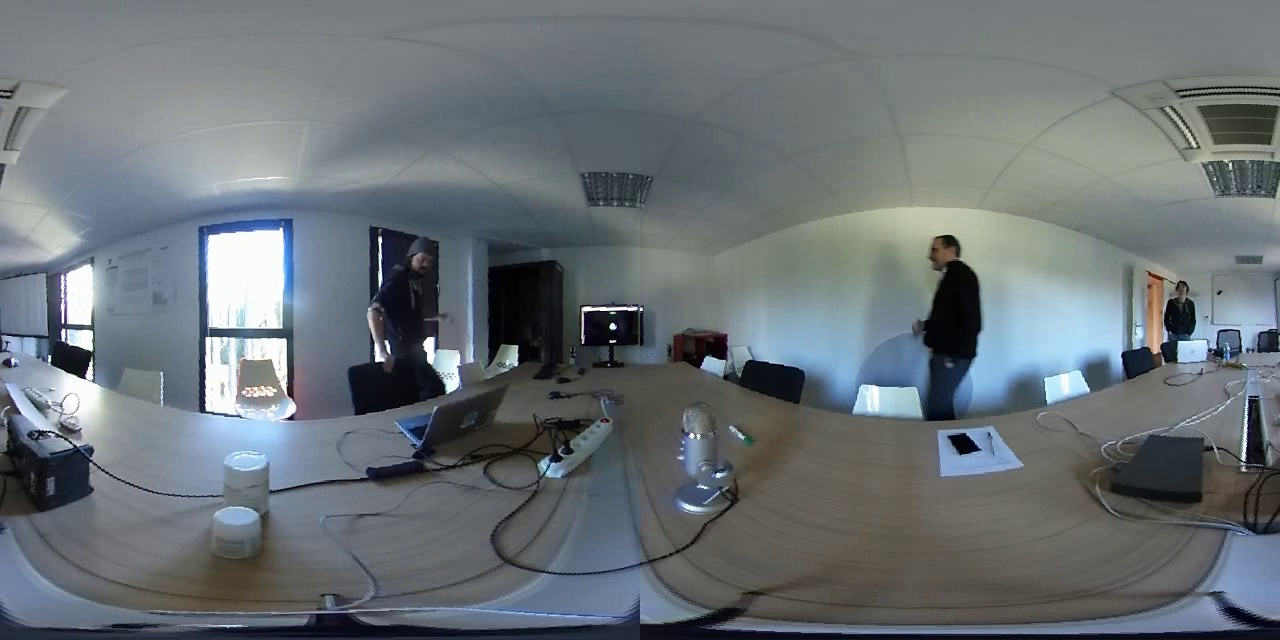person: (910, 228, 1001, 386), (364, 228, 461, 371), (1155, 274, 1208, 343)
